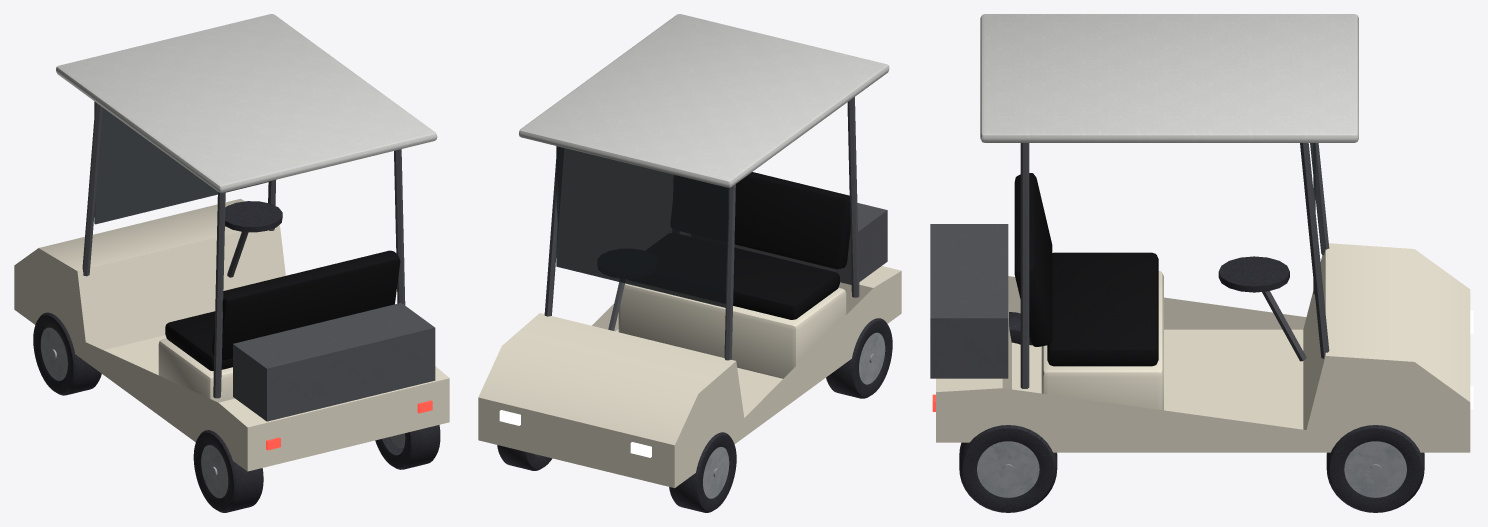
Rendered from golf_buggy_cream.gltf.
3 renders of one model, left to right at view 1: azimuth 30°, elevation 25°; view 2: azimuth 150°, elevation 25°; view 3: azimuth 270°, elevation 25°, orthographic. The views are drawn at different scales.
Visible parts, largest first — view 1: golf_buggy_cream; view 2: golf_buggy_cream; view 3: golf_buggy_cream.
Part boxes in pixels (<box>): golf_buggy_cream: <box>14,14,449,512</box>; golf_buggy_cream: <box>478,14,901,512</box>; golf_buggy_cream: <box>930,14,1473,512</box>.
Bounding box in the file's own units: 1.3 × 1.9 × 2.44.
12 materials, 7 textured.
